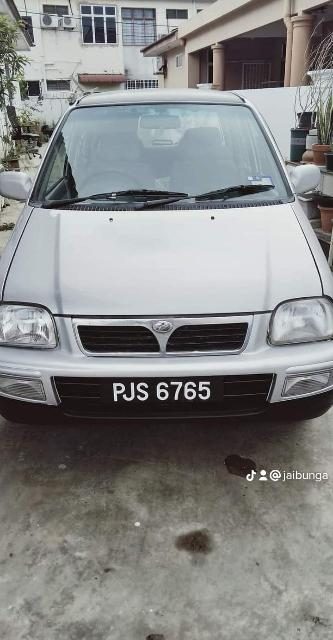License_Plate: (83, 376, 236, 415)
car: (1, 84, 333, 438)
